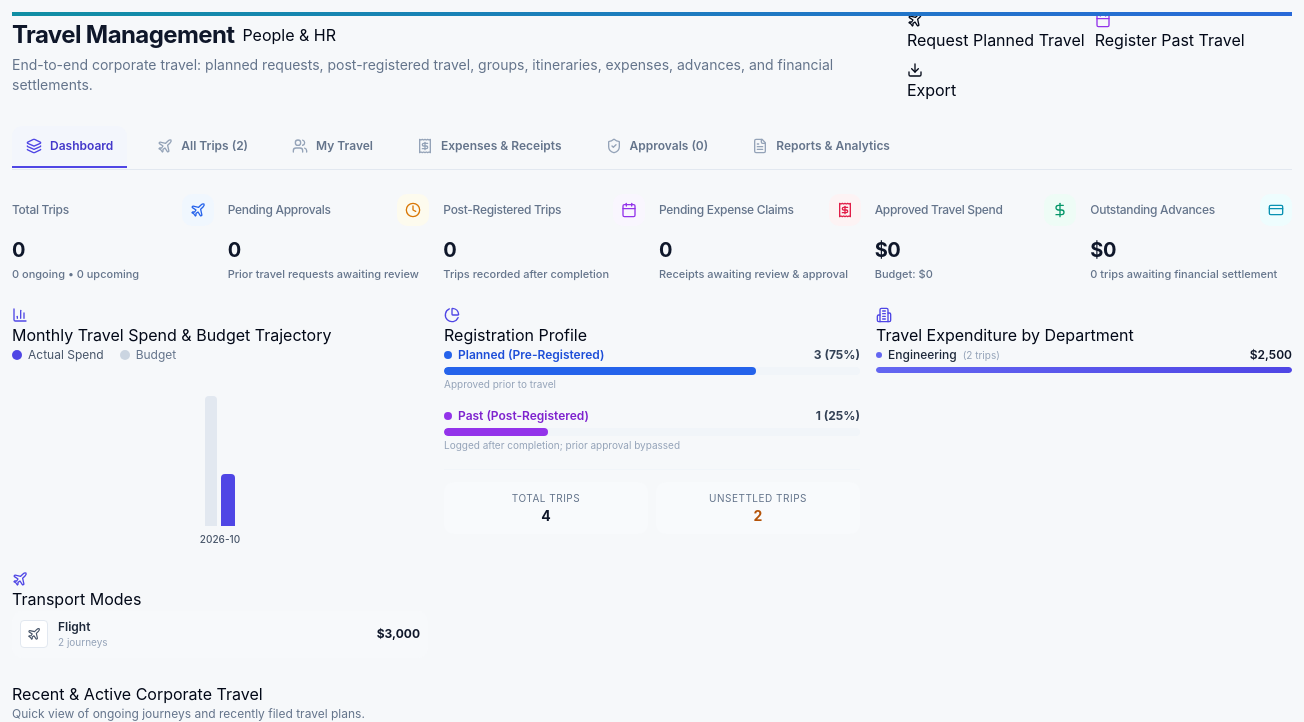
Test: TravelPage Component › navigates to Reports & Analytics tab and shows graphical summaries
Click the button "Reports & Analytics" at (821, 147), box [738,126,904,168]
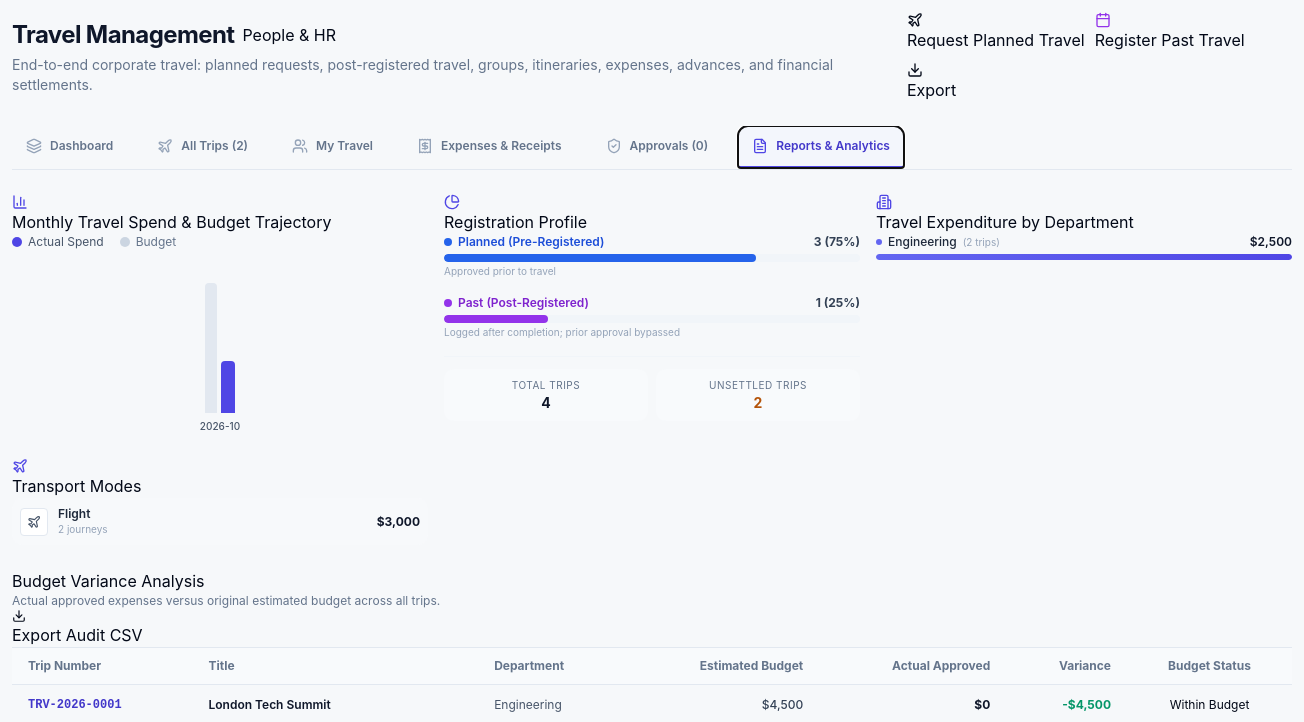
Expected: the text "Monthly Travel Spend & Budget Trajectory" is shown, [12,212,332,232]
Now the heading "Budget Variance Analysis" is shown, box [12,571,204,591]
